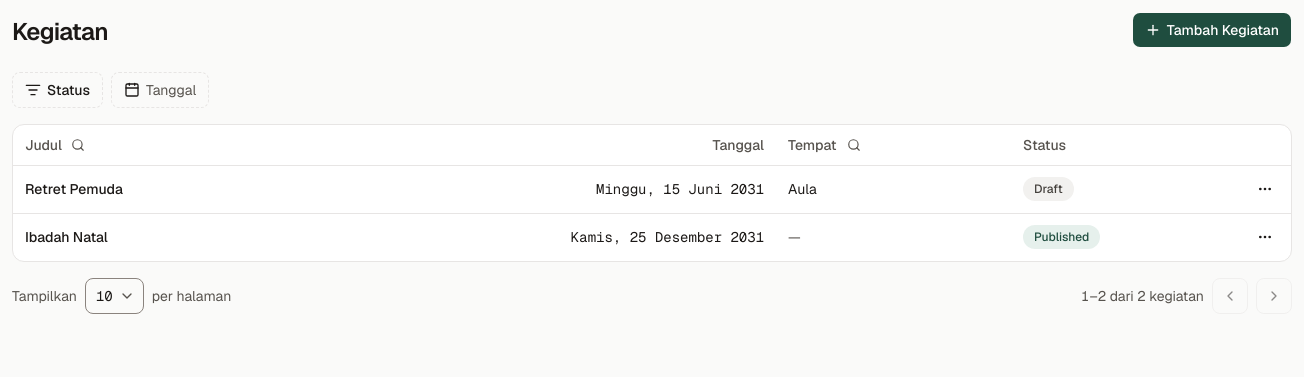
Test: KegiatanManager › row menu offers Terbitkan for a draft and Tarik ke Draft for a published row
Click the button named "Aksi untuk Retret Pemuda" at (1265, 189), box x1=1251 y1=175 x2=1279 y2=203
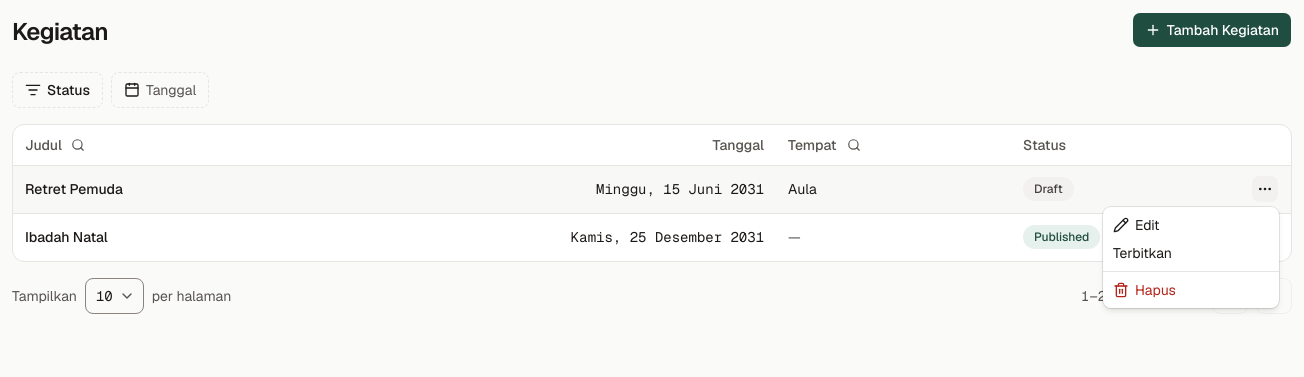
Expected: the menu item "Terbitkan" is shown, x1=1113 y1=244 x2=1172 y2=262
Press Escape
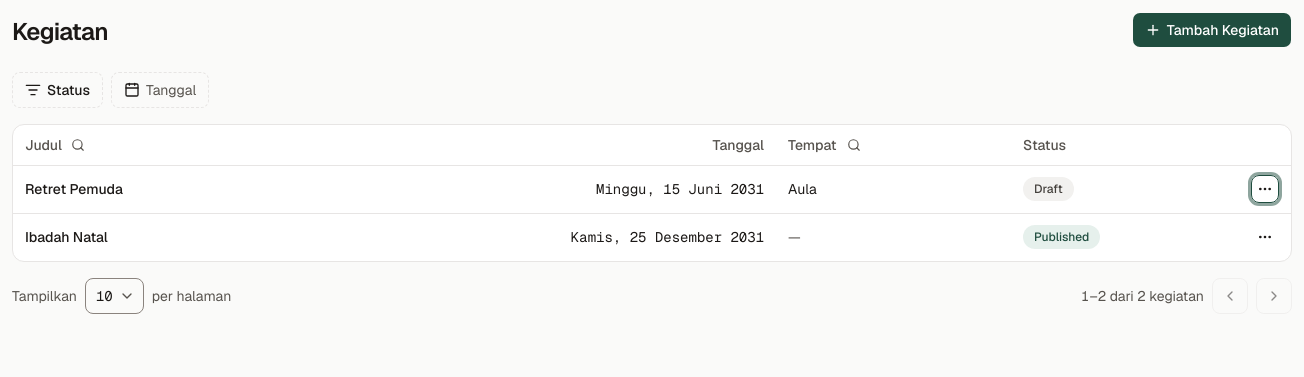
Click the button named "Aksi untuk Ibadah Natal" at (1265, 237), box x1=1251 y1=223 x2=1279 y2=251
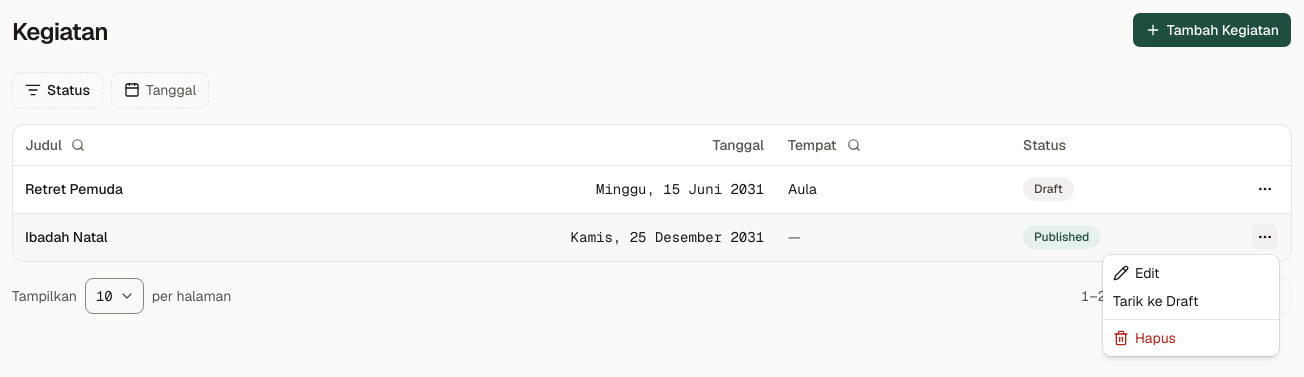
Expected: the menu item "Tarik ke Draft" is shown, x1=1113 y1=292 x2=1198 y2=310
